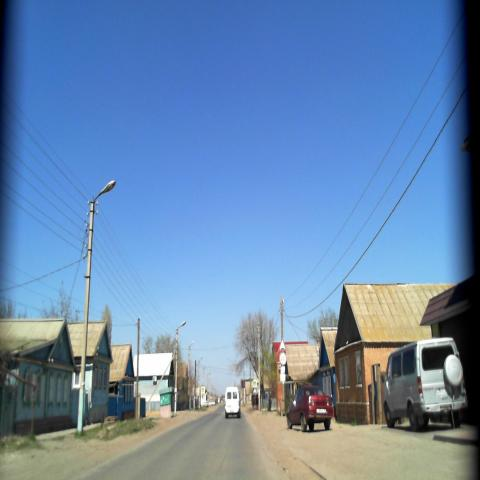3_24: (278, 351, 288, 366)
